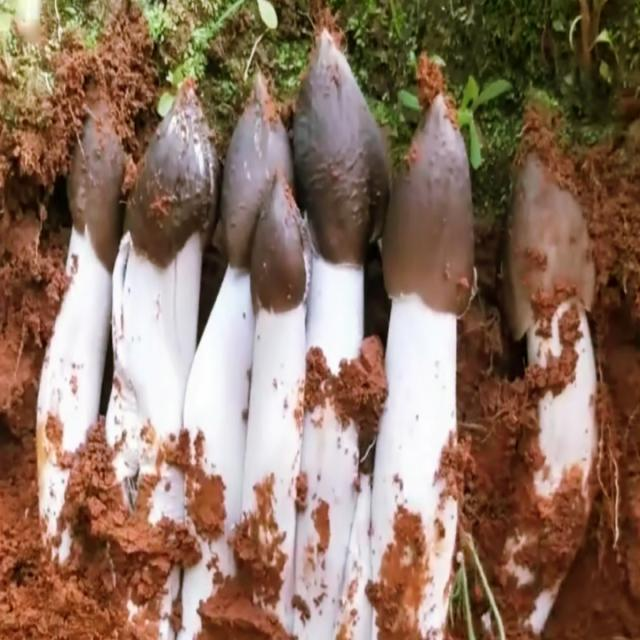Collybia albuminosa: (184, 67, 290, 636), (292, 25, 383, 640), (383, 93, 472, 635), (496, 151, 603, 518), (38, 113, 122, 546), (135, 79, 211, 548), (253, 169, 307, 640)
